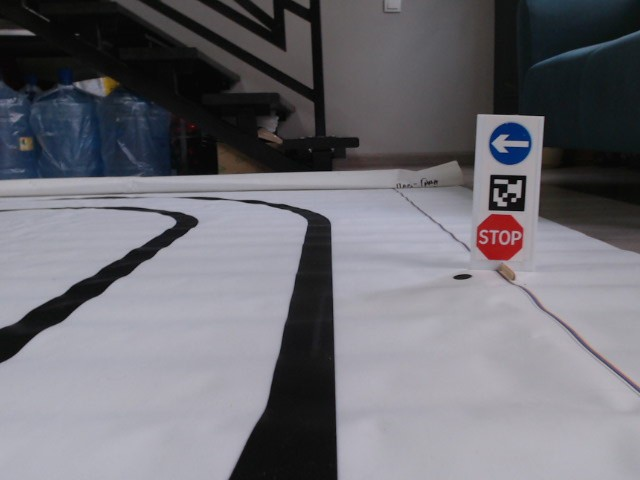Stop: (475, 212, 525, 263)
